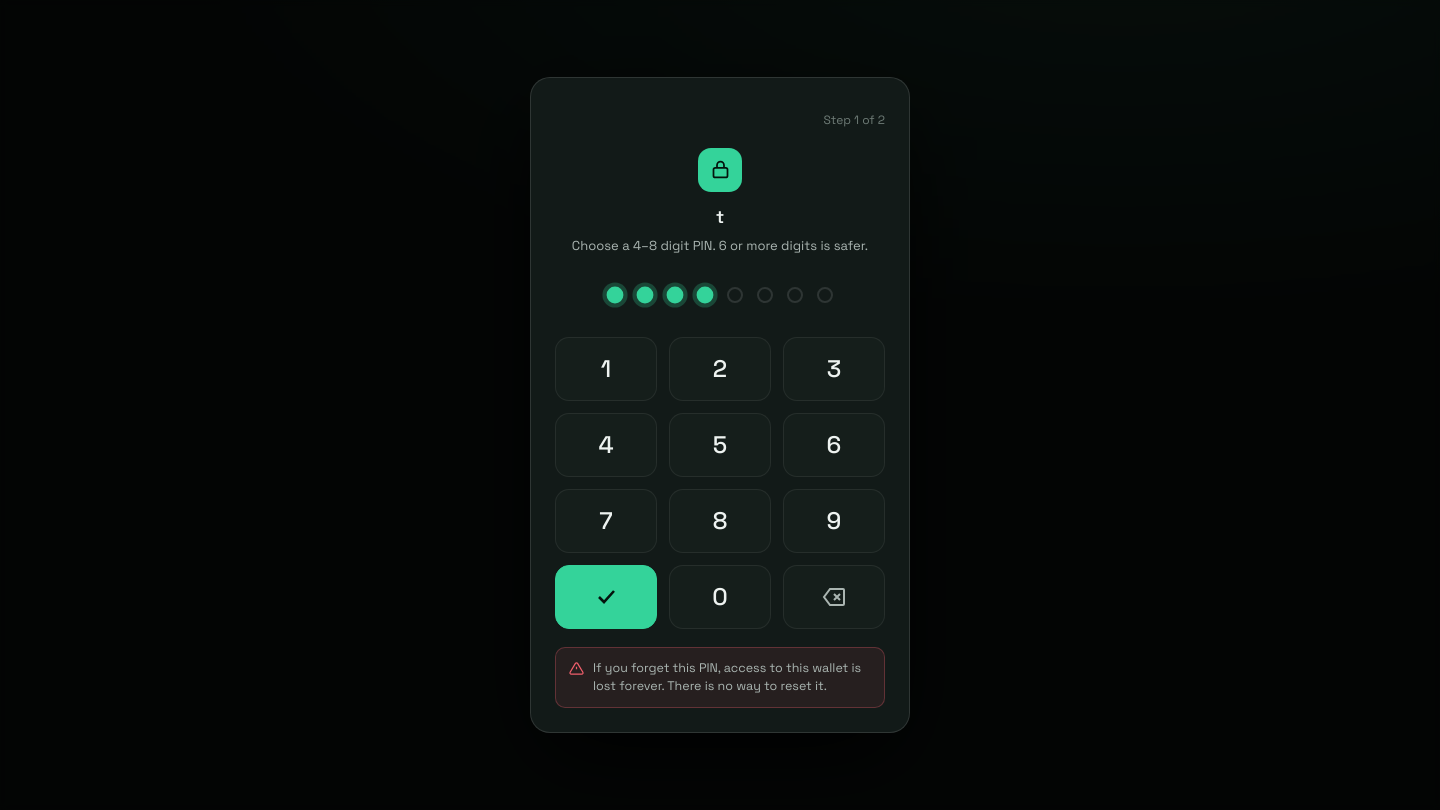
Test: PinSetup › starts over from the first step when the PINs differ
Earlier steps of the test are not shown.
Later steps or results of the test are not shown.
What coordinates should you click on to do the following:
click the button titled "Confirm"
I would click on:
 (606, 597)
Its box is [555,565,657,629].
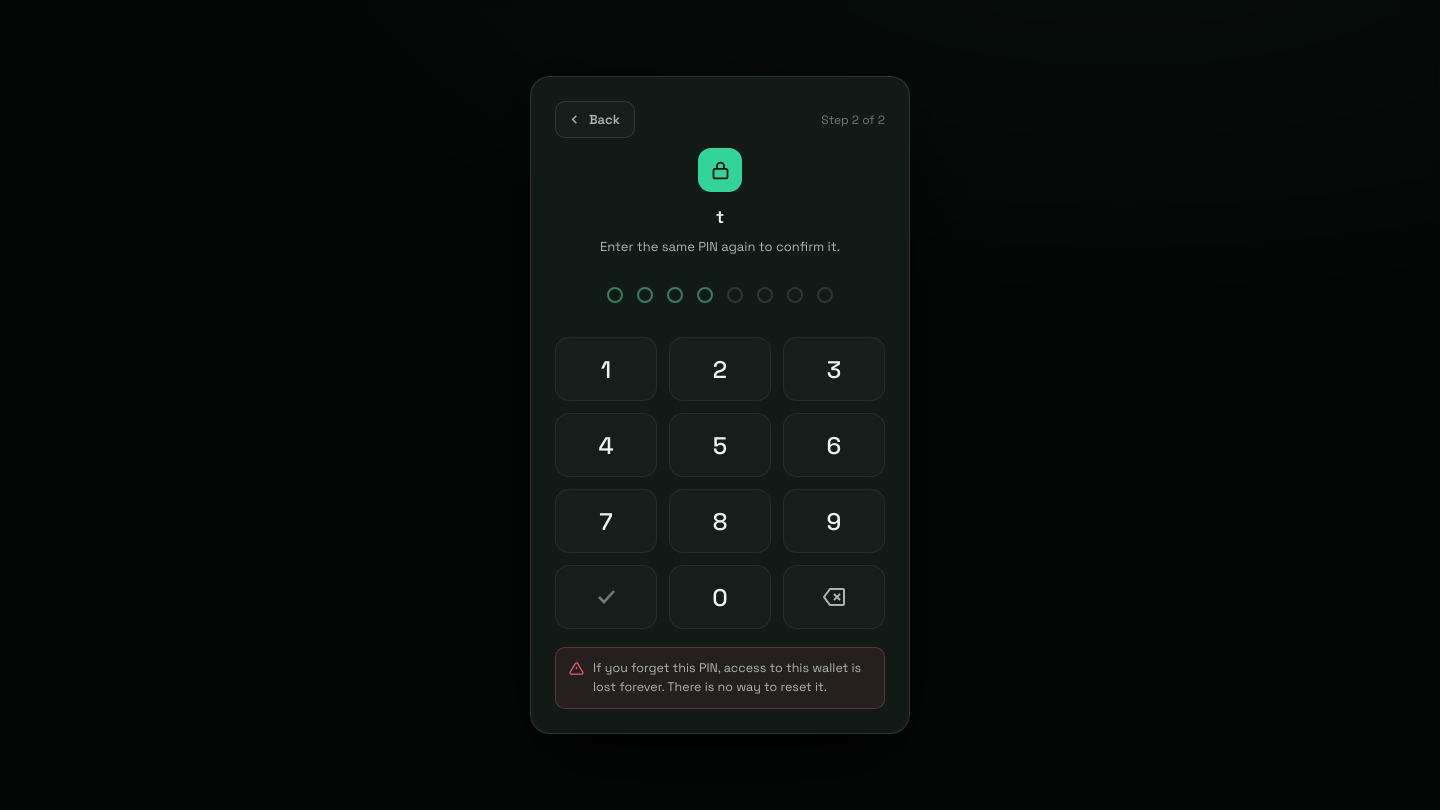
What coordinates should you click on to do the following:
click the button "2"
I would click on:
 (720, 369)
Its box is [669,337,771,401].
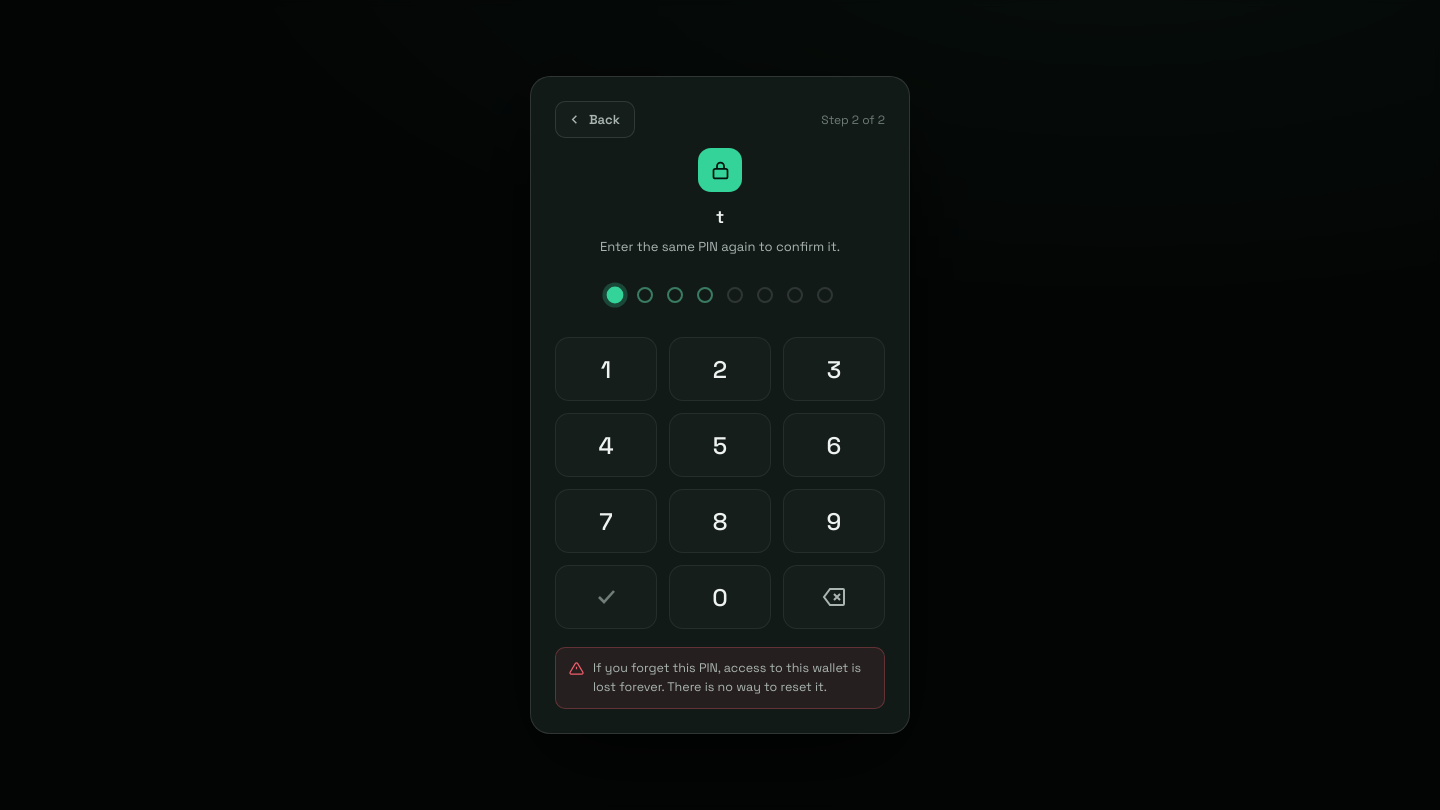
What coordinates should you click on to do the following:
click the button "5"
I would click on:
 (720, 445)
Its box is [669,413,771,477].
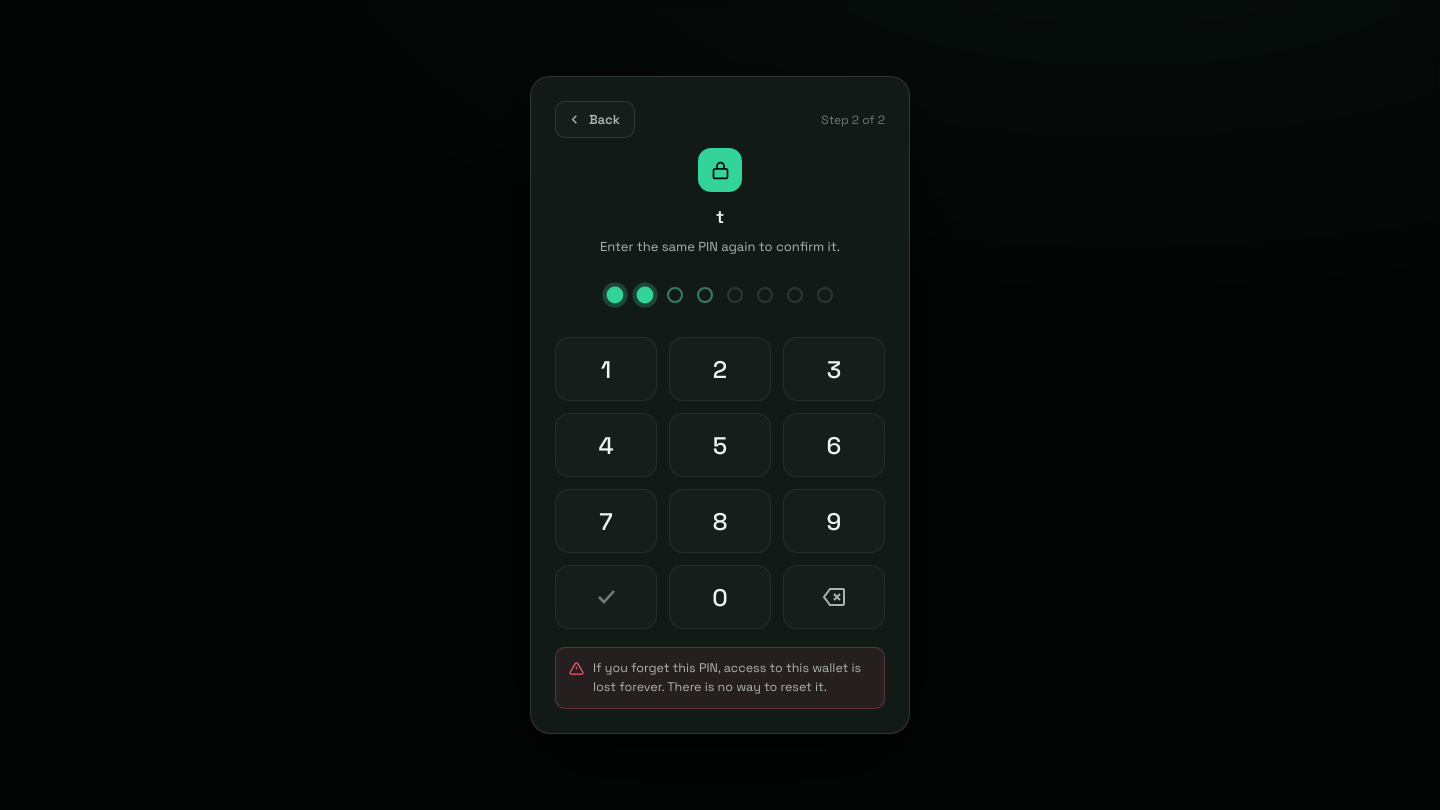
What coordinates should you click on to do the following:
click the button "8"
I would click on:
 (720, 521)
Its box is [669,489,771,553].
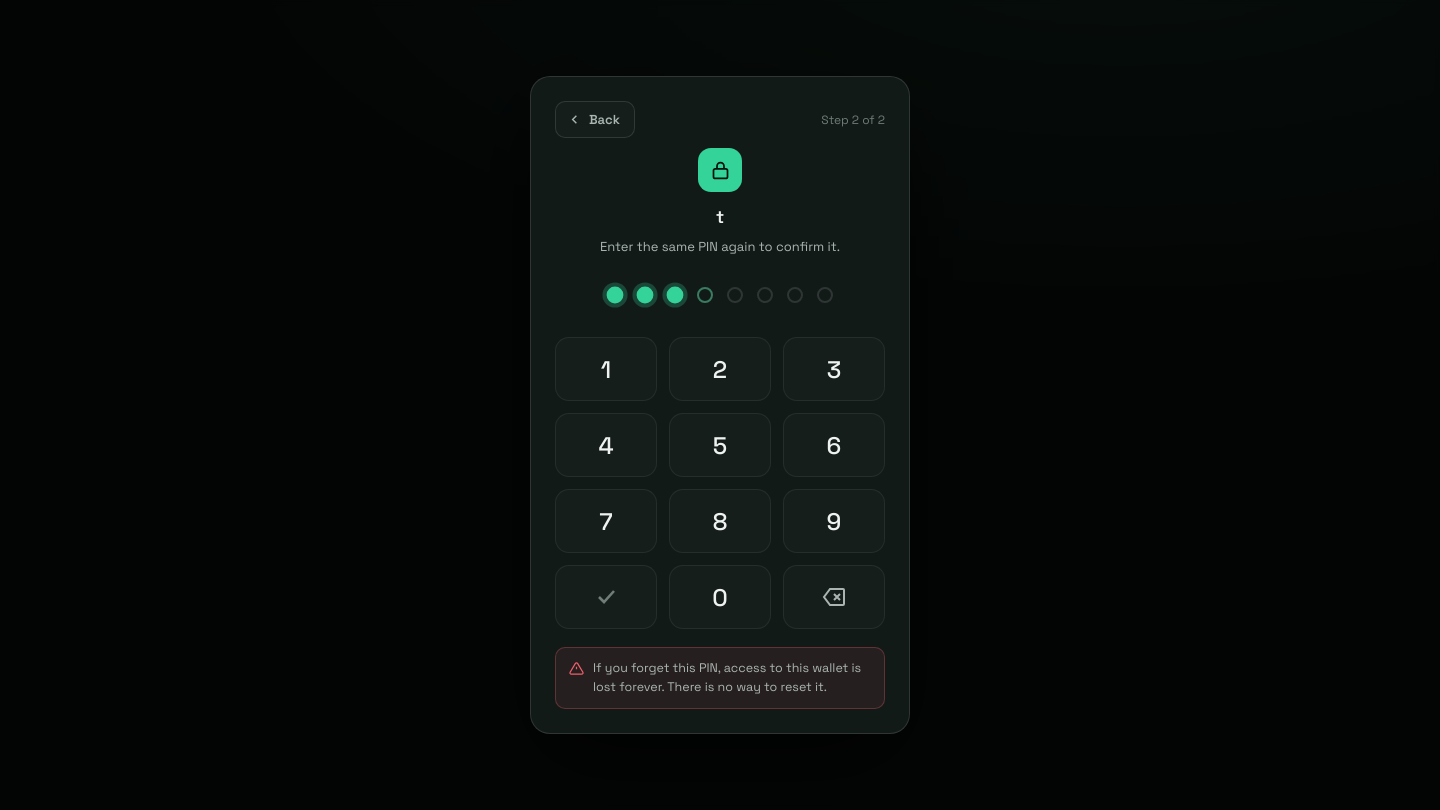
What coordinates should you click on to do the following:
click the button "1"
I would click on:
 (606, 369)
Its box is [555,337,657,401].
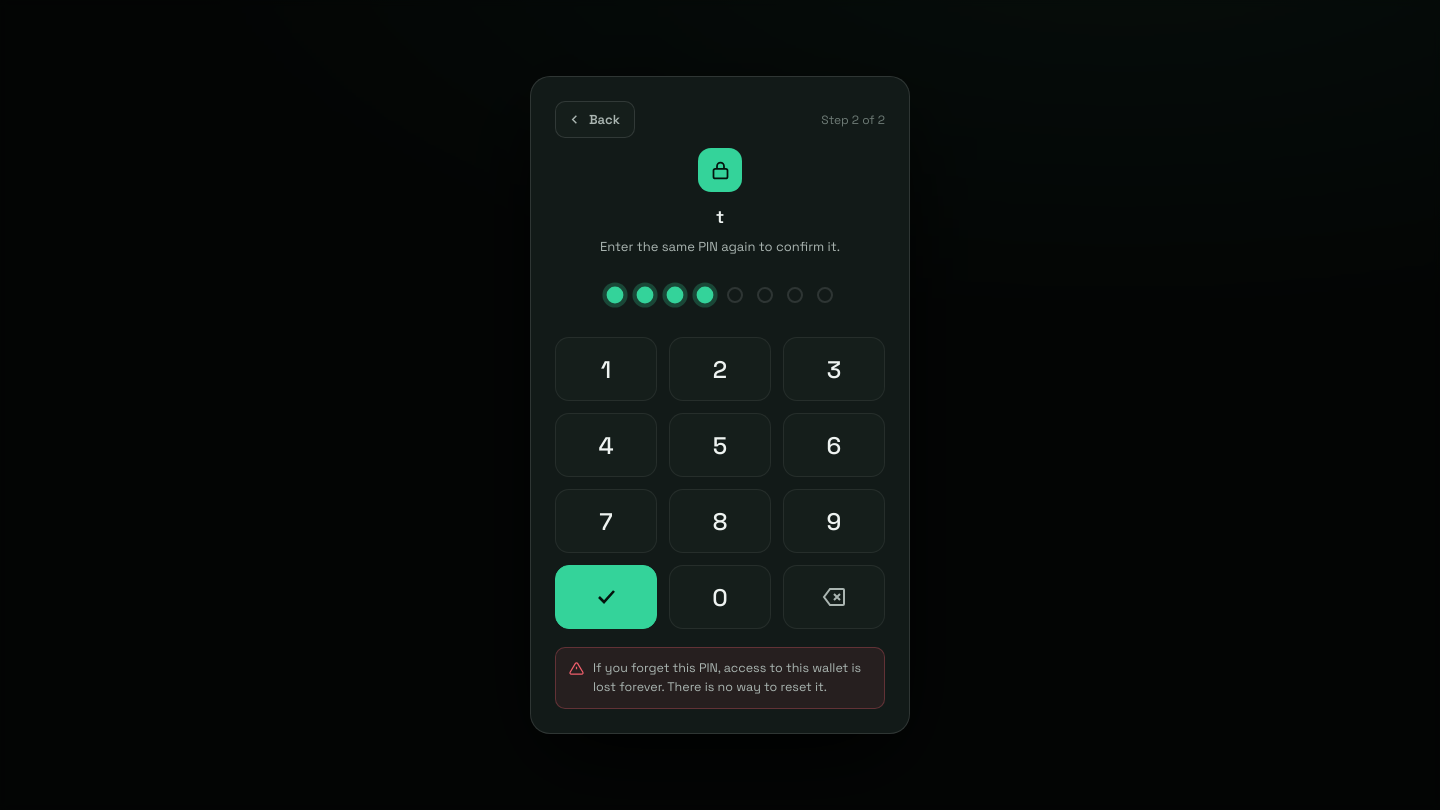
What coordinates should you click on to do the following:
click the button titled "Confirm"
I would click on:
 (606, 597)
Its box is [555,565,657,629].
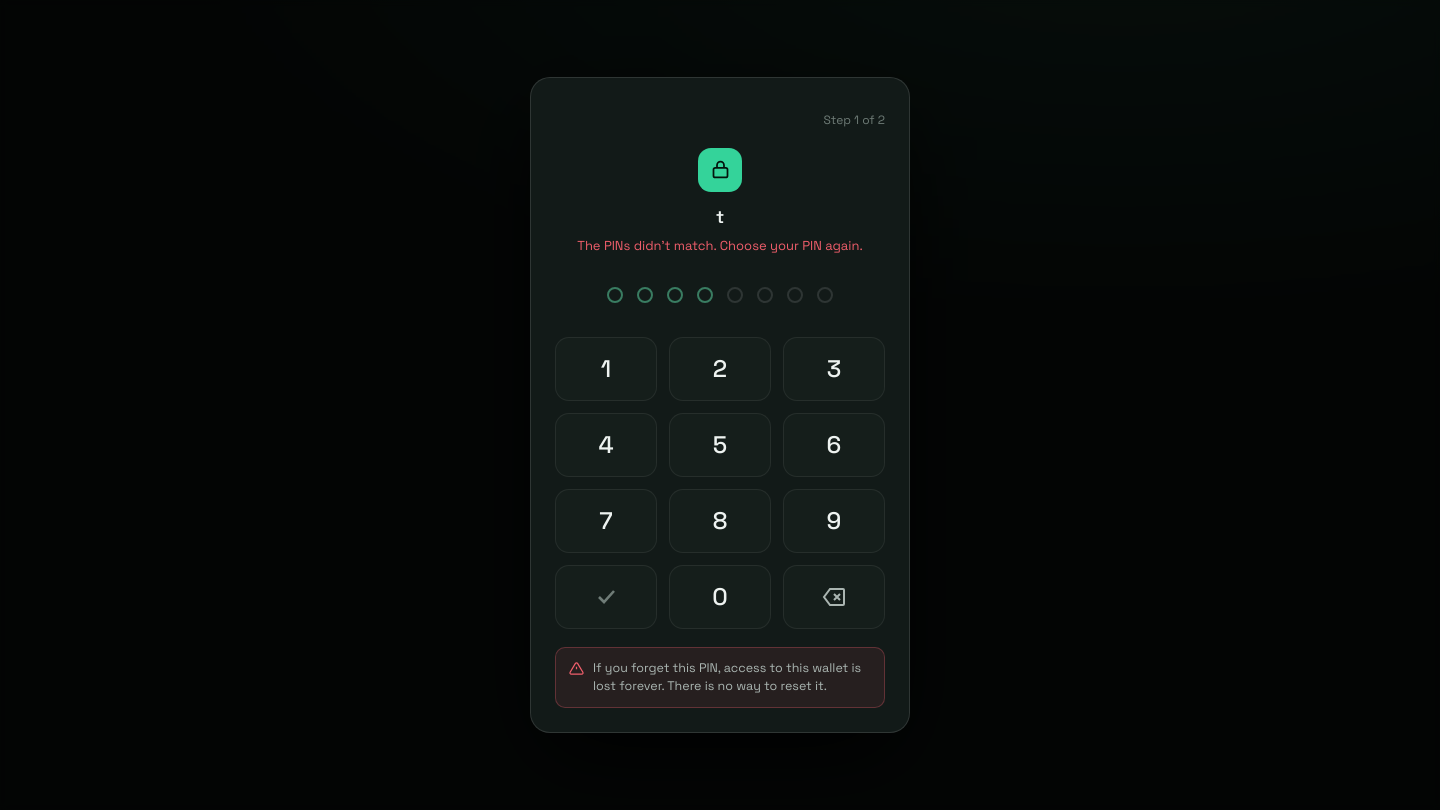
Check: the text "Step 1 of 2" is shown, box [824,112,885,128]
Check: the message shows "didn't match", box [577,237,863,254]
